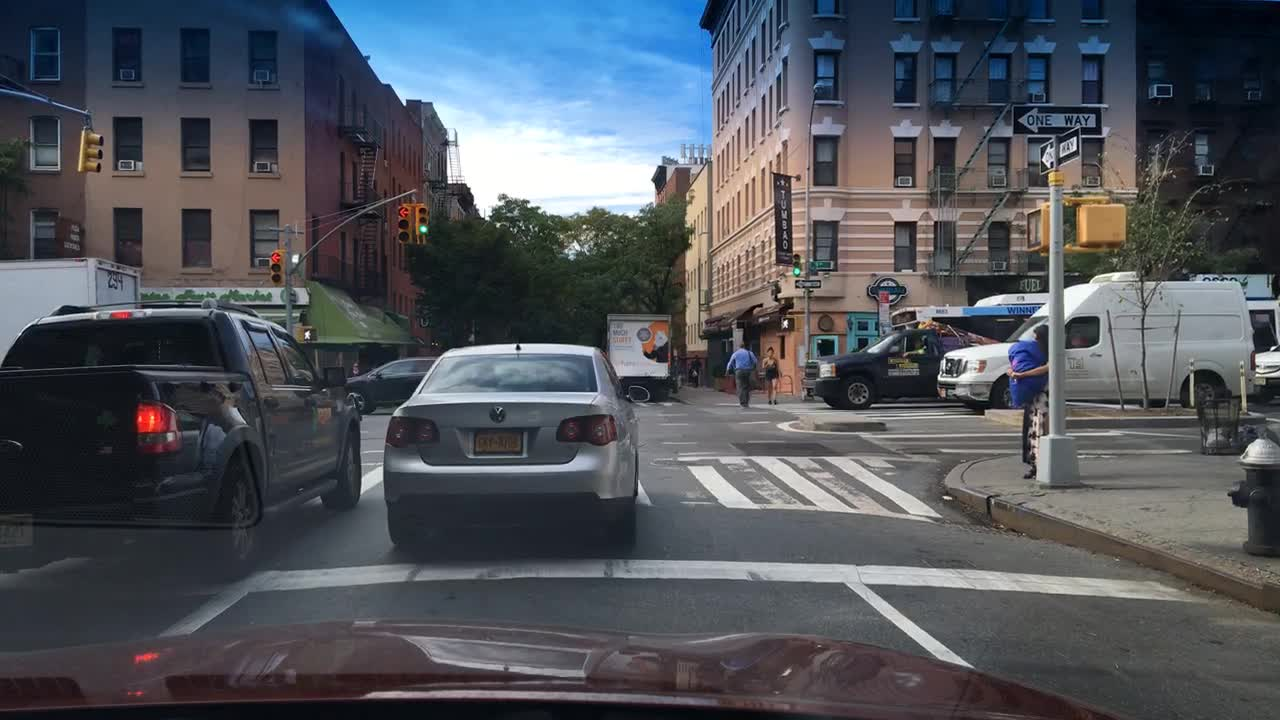bus: (884, 291, 1278, 353)
car: (0, 299, 365, 585), (379, 339, 651, 554), (935, 270, 1276, 410), (341, 353, 444, 416), (1251, 341, 1278, 405)
person: (1004, 323, 1052, 480), (720, 341, 758, 409), (760, 344, 782, 405), (685, 353, 703, 387)
traffic light: (1073, 201, 1126, 250), (75, 125, 107, 174), (1023, 209, 1050, 252), (396, 203, 415, 244), (269, 248, 287, 287), (414, 202, 430, 237), (295, 324, 319, 344), (779, 316, 799, 333), (791, 253, 802, 276)
traffic sign: (1009, 102, 1103, 136), (1037, 123, 1081, 174), (793, 279, 823, 289), (809, 258, 833, 269)
truck: (799, 316, 998, 410), (0, 255, 145, 371), (606, 311, 672, 401)
